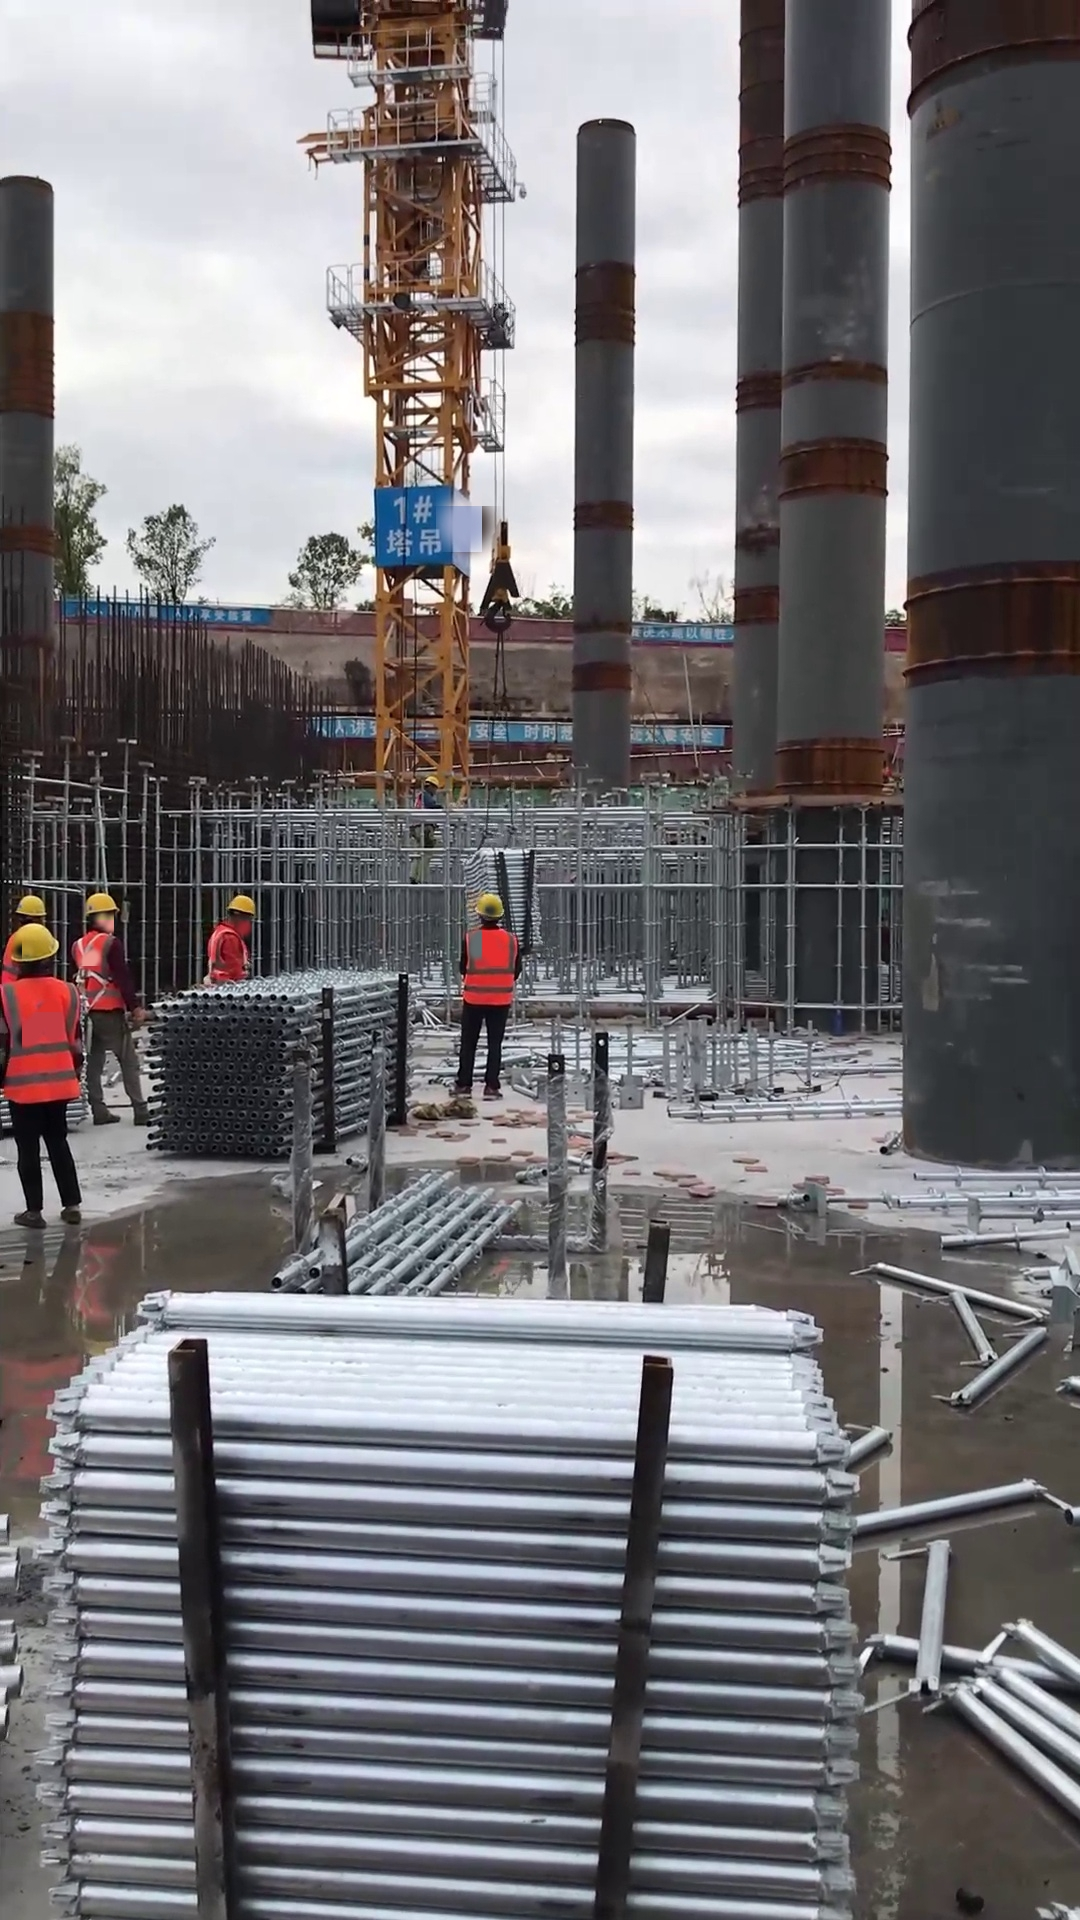helmet: (8, 921, 60, 970), (472, 890, 504, 923), (84, 891, 121, 918), (13, 893, 46, 922), (225, 891, 257, 920), (421, 774, 442, 789)
hook: (473, 517, 520, 636)
person: (1, 921, 88, 1230), (68, 891, 154, 1128), (446, 888, 525, 1105), (204, 892, 258, 986), (408, 773, 445, 885)
scaffold: (35, 1287, 859, 1920), (145, 967, 424, 1156), (269, 1172, 522, 1296), (462, 846, 544, 951)
slogan: (315, 713, 574, 743), (376, 485, 455, 566), (120, 601, 265, 624), (630, 723, 724, 749), (628, 622, 737, 643)
vest: (1, 976, 83, 1105), (461, 925, 519, 1007), (71, 930, 127, 1012), (205, 921, 252, 984)
